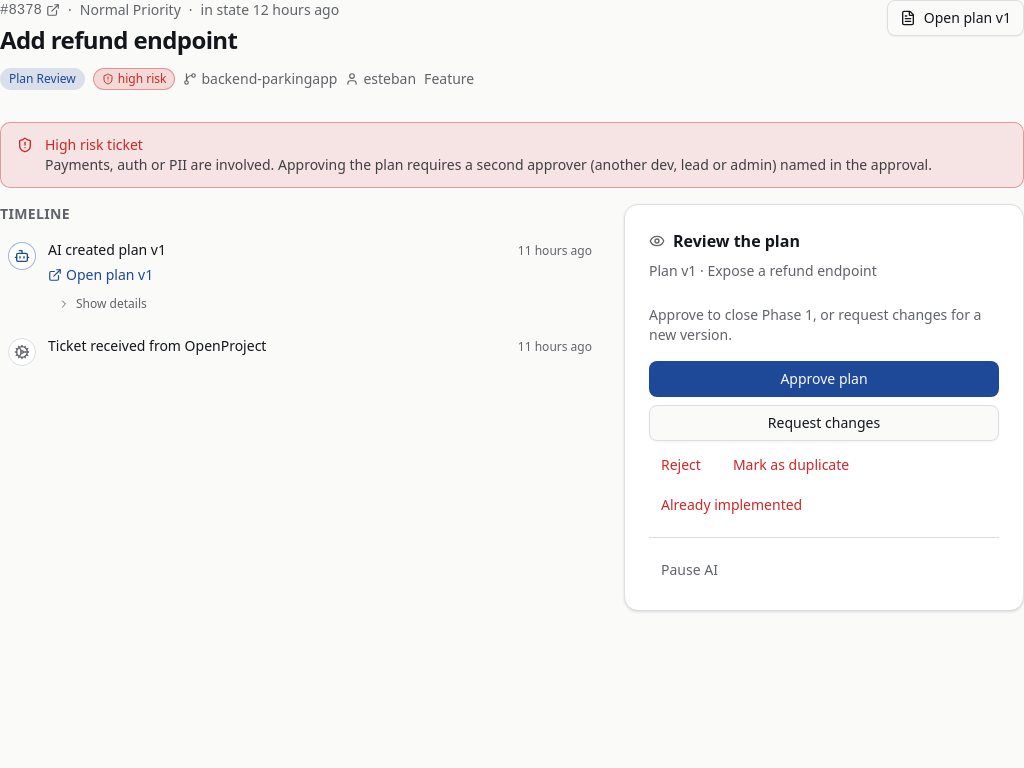
Test case: TicketPageContainer approve flow › asks for a second approver on high risk and sends it in the body
Expected: the heading "Add refund endpoint" is shown, [0,23,237,56]
Expected: the element with test id "risk-banner" is shown, [0,122,1023,188]
Click the button "Approve plan" at [824, 379], box [649,361,999,397]
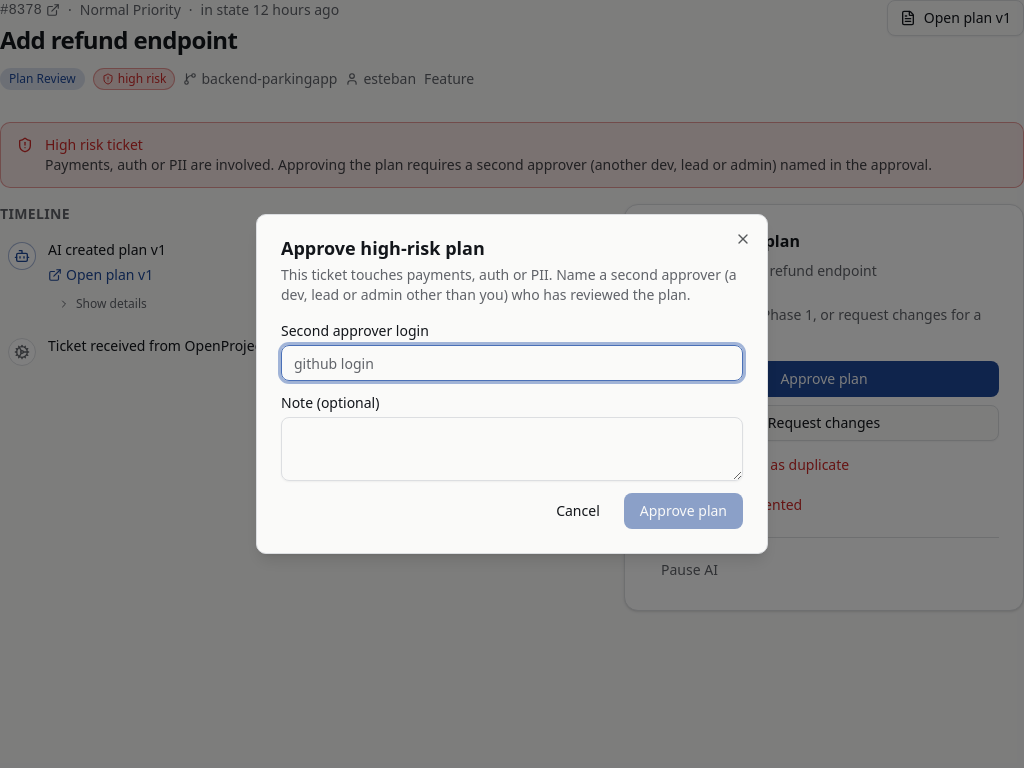
Type "ana" into the field labelled "Second approver login" at [512, 363], box [281,345,743,381]
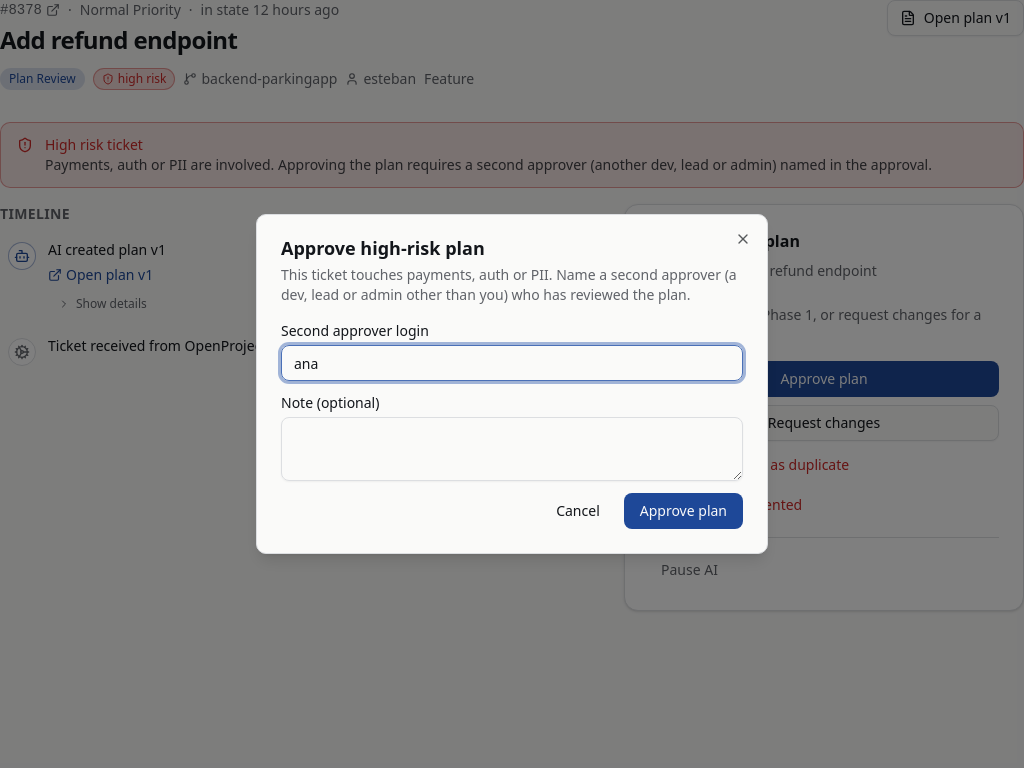
Click the button "Approve plan" at [683, 511], box [624,493,743,529]
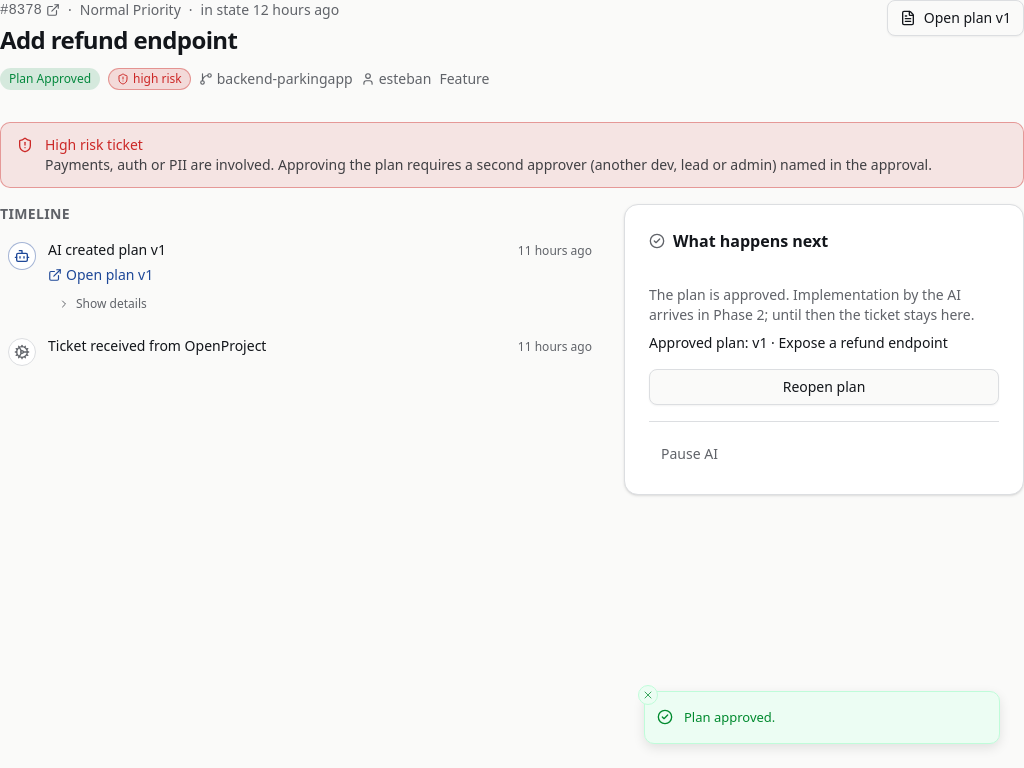
Expected: the text "Plan approved." is shown, [684,708,775,727]
